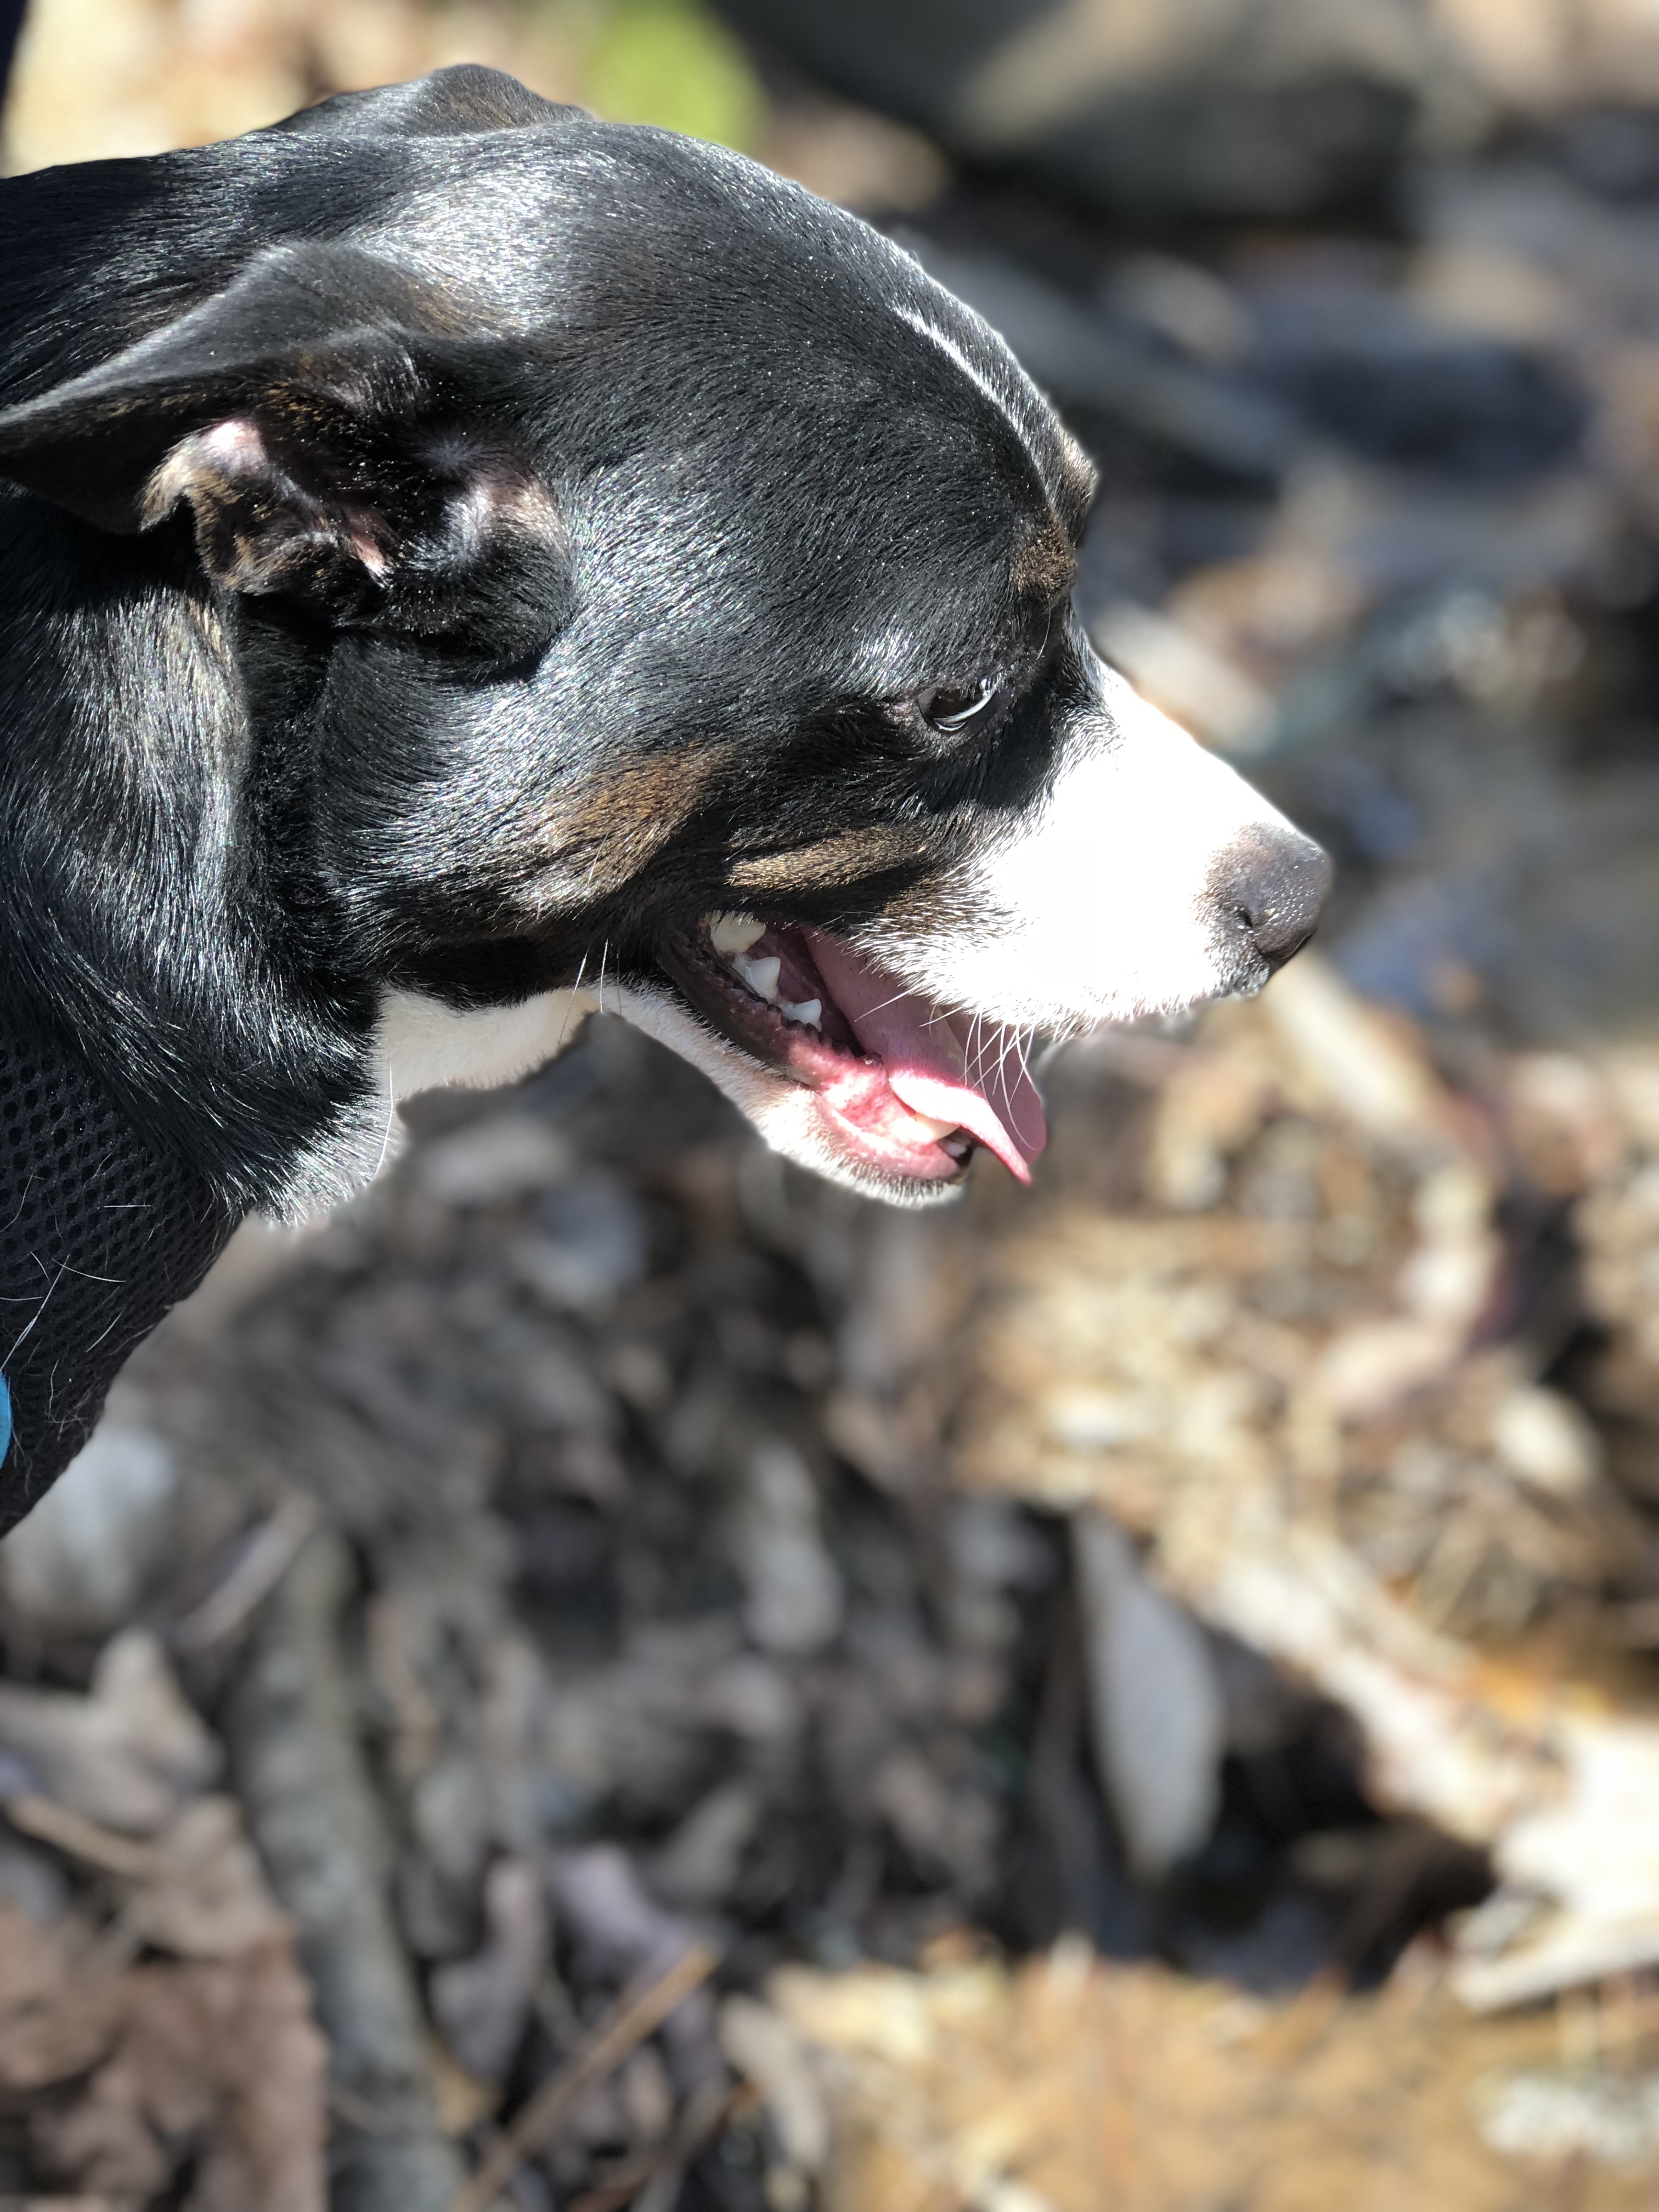Harley: (0, 47, 1371, 1585)
